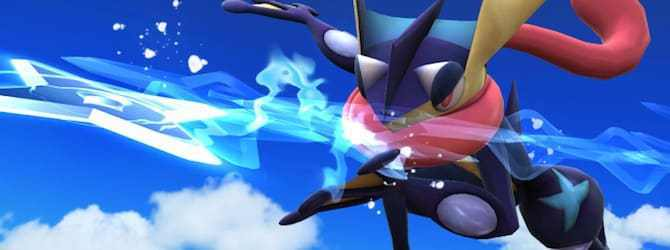greninja: (219, 1, 650, 249)
